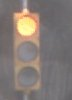Red: (9, 8, 52, 100)
